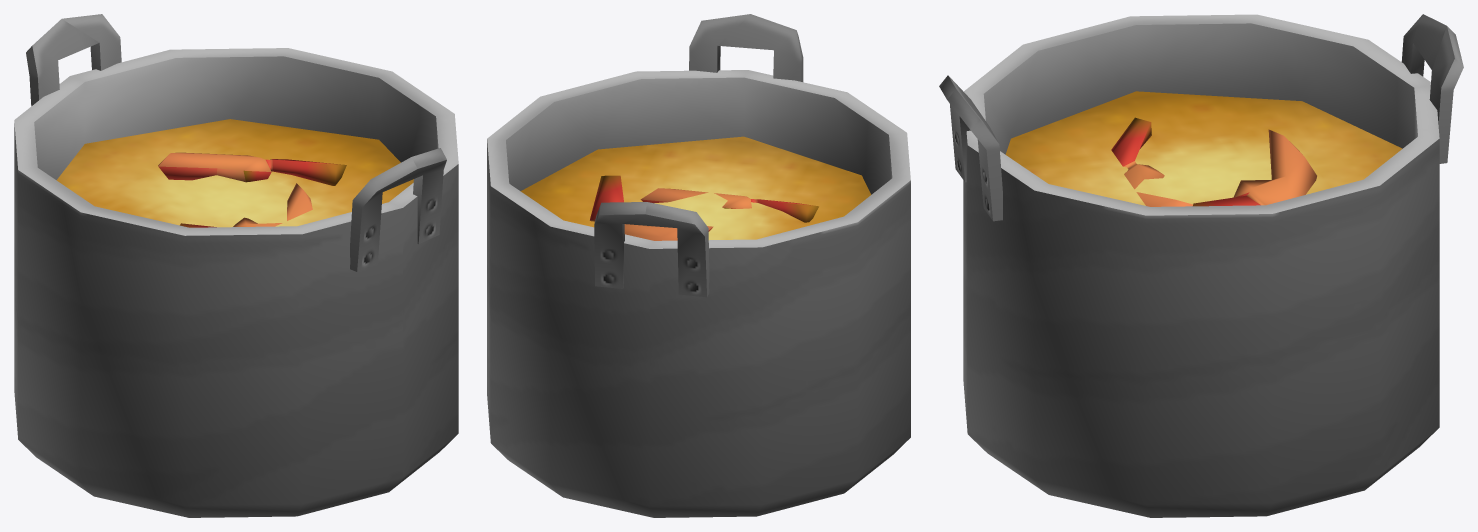
Rendered from Cookingpot_Lobster.fbx.
3 renders of one model, left to right at view 1: azimuth 30°, elevation 25°; view 2: azimuth 150°, elevation 25°; view 3: azimuth 270°, elevation 25°, orthographic. The views are drawn at different scales.
Parts seen in each view (by area): view 1: CookingPotLobster; view 2: CookingPotLobster; view 3: CookingPotLobster.
Part boxes in pixels (box(x1,y1,x2,y2)): CookingPotLobster: box(14, 14, 458, 517); CookingPotLobster: box(487, 14, 910, 517); CookingPotLobster: box(939, 14, 1463, 517).
Size of the model in its own units: 46.5 by 39.72 by 51.25.
